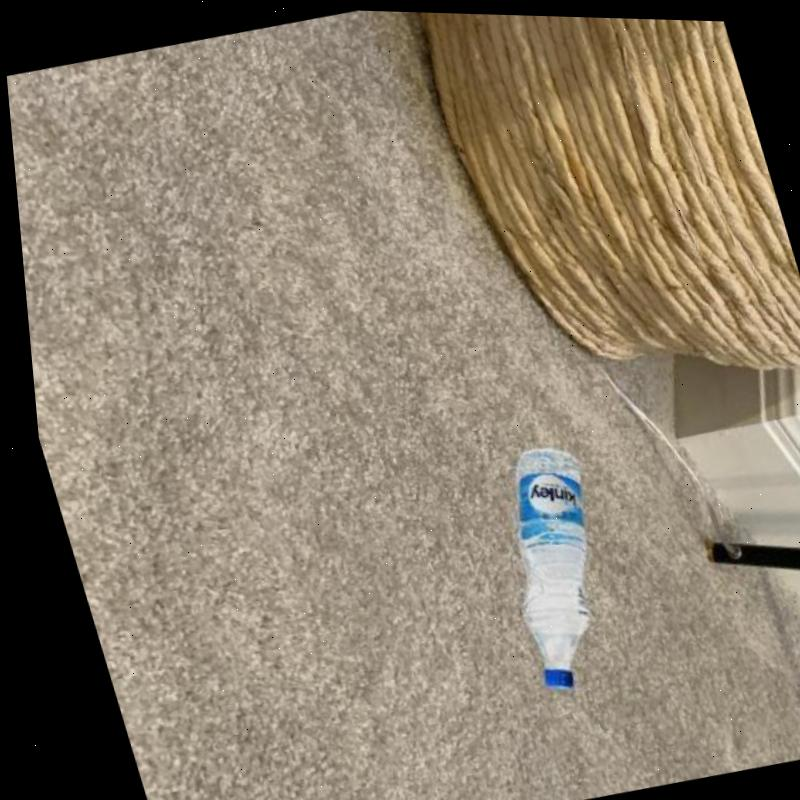botella: (461, 435, 632, 693)
